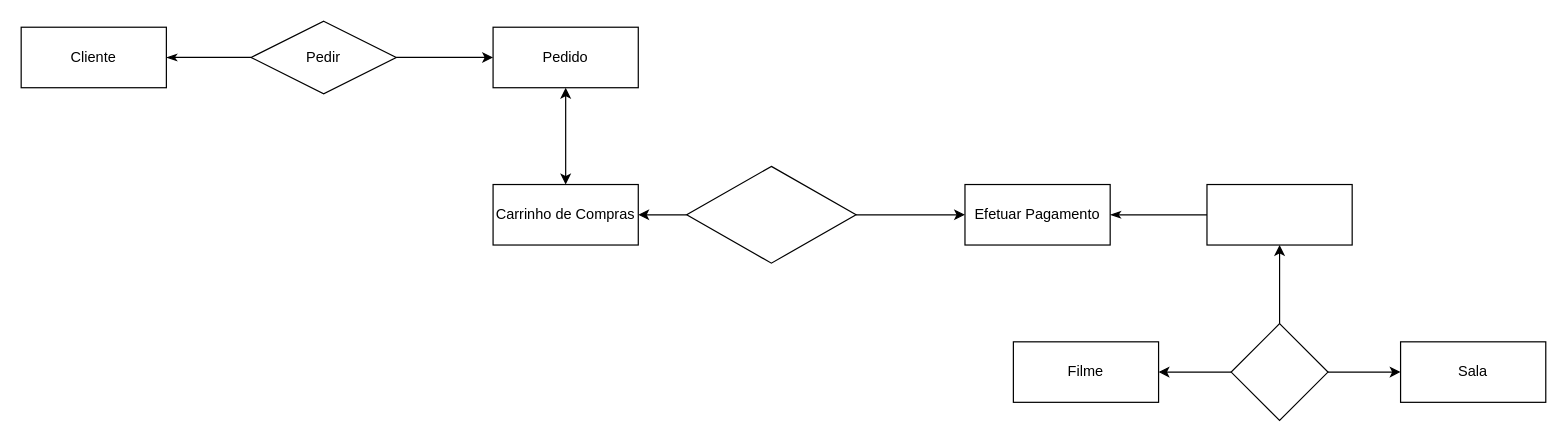
Image size: 1567x442. Some labels were removed from this diagram. The shapes that lost their labels are listed below. From the top down, each one's box as (x1, y1, x2, y2) in pixels, then its label:
(685, 165, 856, 263): Forma de Pagamento
(1206, 183, 1352, 245): Ingresso
(1230, 322, 1328, 420): Sessão
